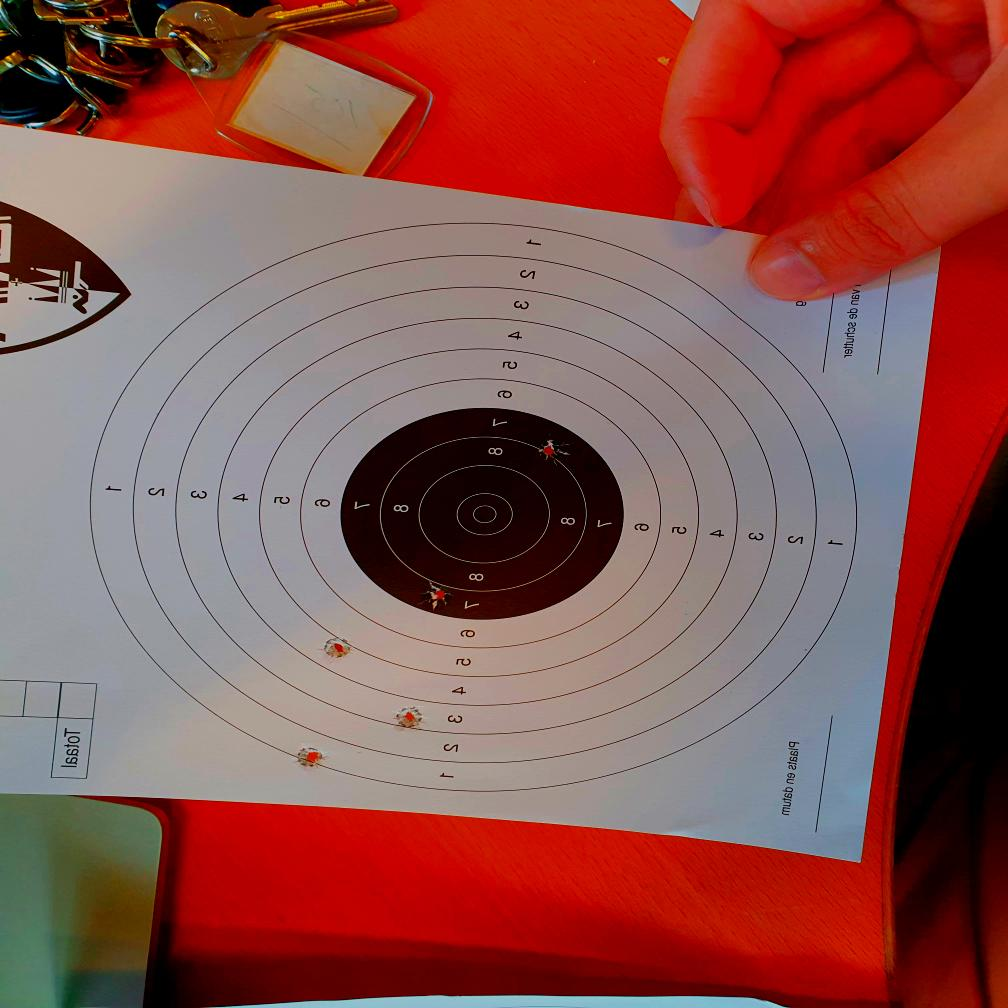1: (291, 744, 328, 770)
3: (390, 705, 428, 732)
5: (316, 635, 357, 662)
7: (418, 581, 452, 610)
8: (534, 434, 573, 466)
Target: (86, 222, 862, 790)
black_contour: (339, 406, 624, 619)
